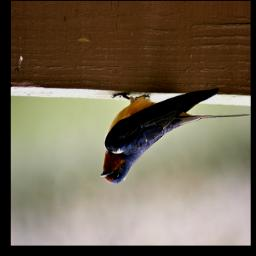Swallow: (99, 88, 250, 187)
